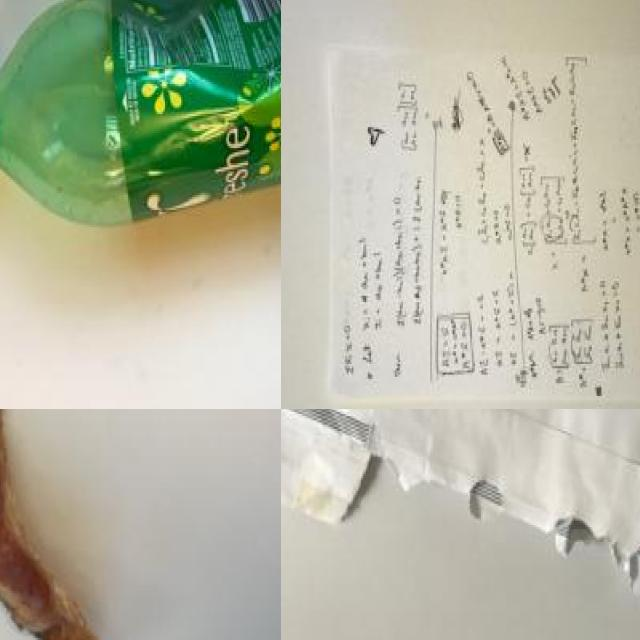compost: (0, 409, 142, 640)
paper: (323, 29, 640, 409), (281, 409, 640, 570)
plastic: (0, 0, 281, 212)
